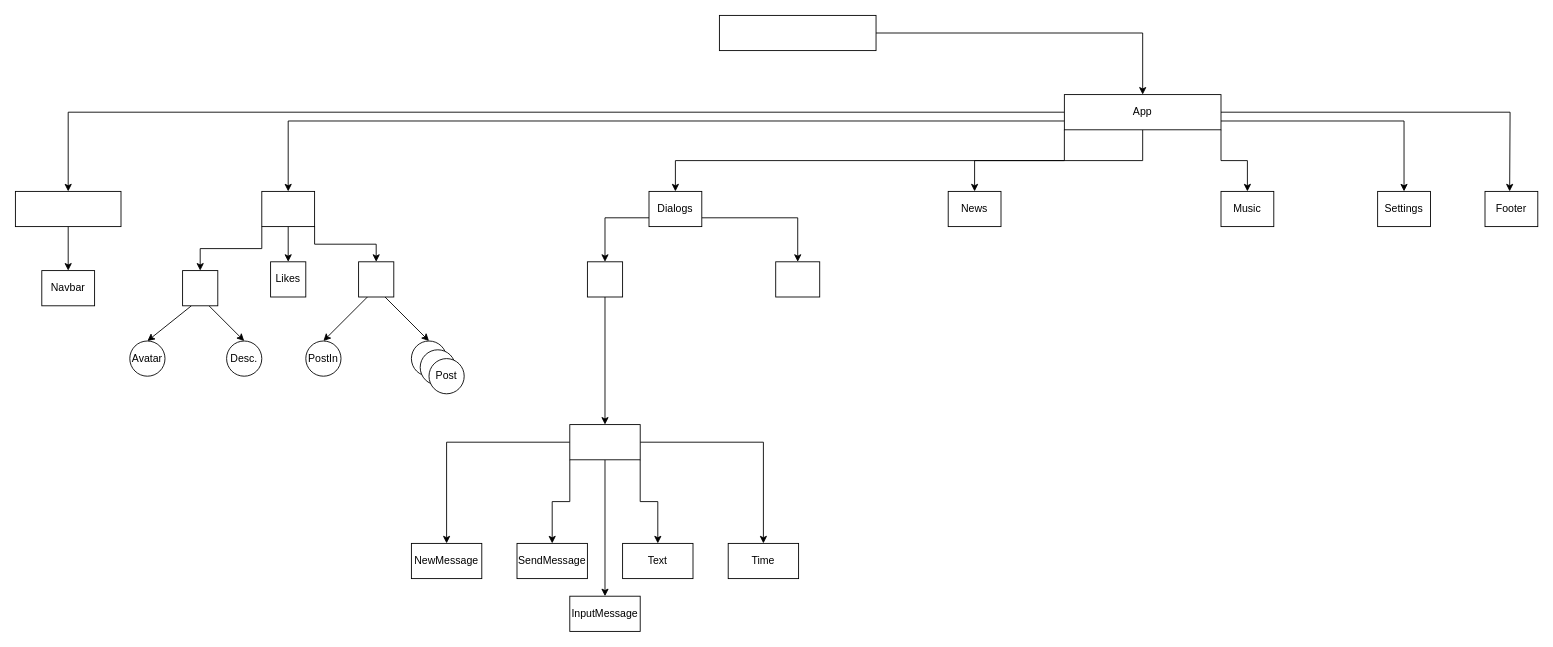
Image size: 1553x647. Some labels were removed from this diagram. The box of each missing label's shape, as (x1, y1, x2, y2) in pixels:
Chat: (587, 261, 623, 297)
Header: (15, 191, 121, 227)
Index.js: (719, 15, 876, 51)
Info: (182, 270, 218, 306)
Message: (569, 424, 640, 460)
Persons: (775, 261, 820, 297)
Posts: (358, 261, 394, 297)
Profile: (261, 191, 315, 227)
